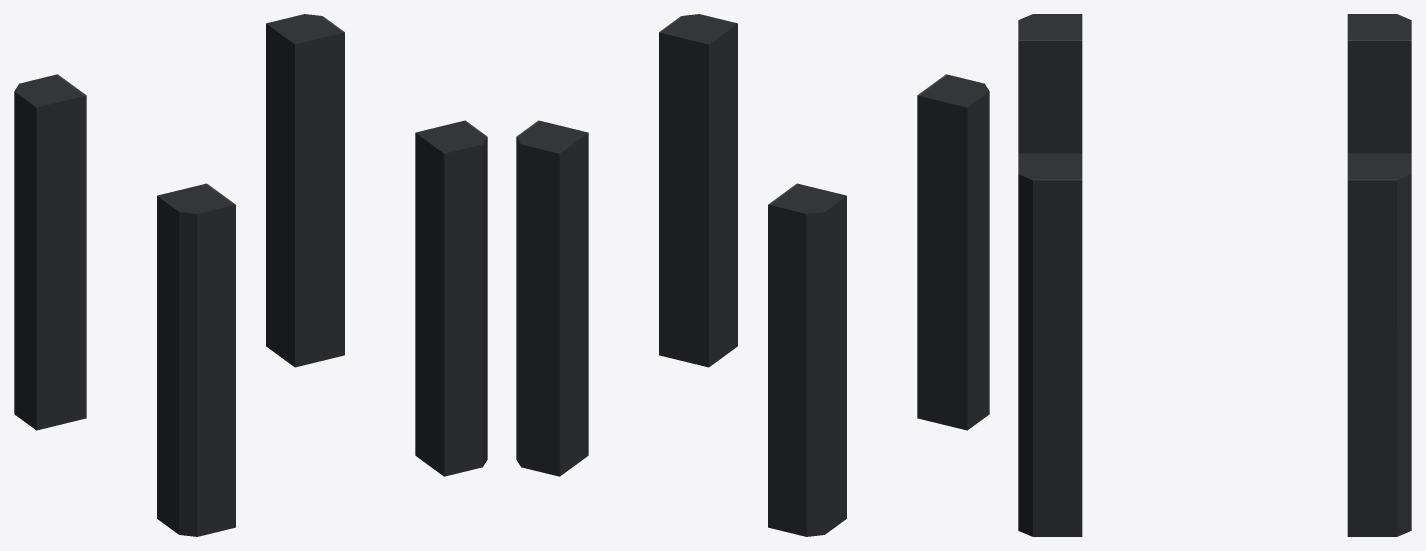
The model's file is half_pipe_up.obj.
3 views of the same model, side by side, from view 1: azimuth 30°, elevation 25°; view 2: azimuth 150°, elevation 25°; view 3: azimuth 270°, elevation 25° (orthographic). The views are drawn at different scales.
Visible parts, largest first — view 1: half_pipe_rails; view 2: half_pipe_rails; view 3: half_pipe_rails.
Boxes of the visible parts, x1,y1,x2,y2 form: half_pipe_rails: (14, 14, 487, 536); half_pipe_rails: (516, 14, 989, 536); half_pipe_rails: (1018, 14, 1411, 536).
Bounding box in the file's own units: 0.5 × 0.5 × 0.5.
